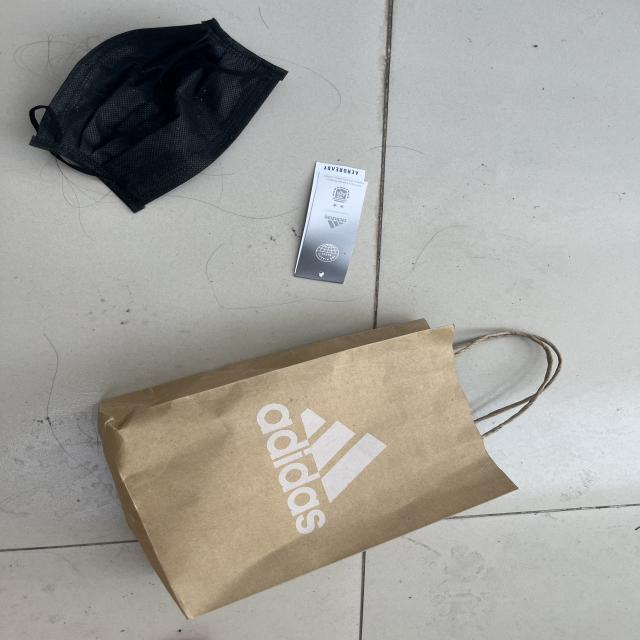bag: (97, 318, 563, 621)
mask: (29, 17, 289, 213)
paper: (294, 161, 369, 284)
